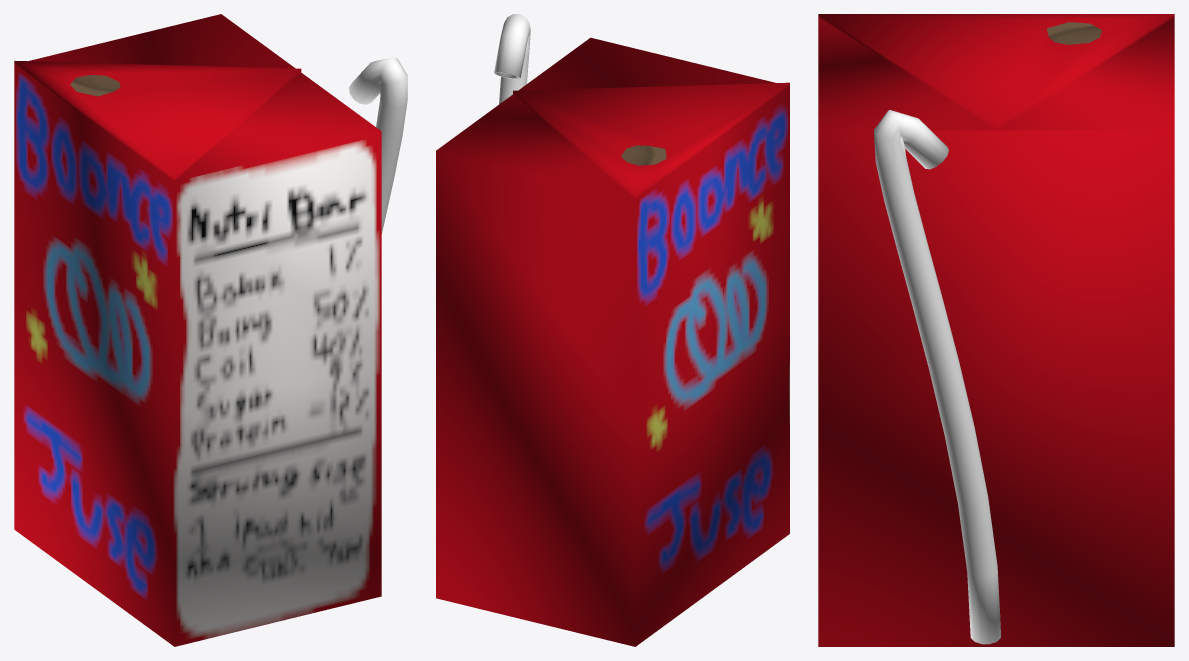
The model's file is item-boonce-juse.glb.
3 views of the same model, side by side, from view 1: azimuth 30°, elevation 25°; view 2: azimuth 150°, elevation 25°; view 3: azimuth 270°, elevation 25° (orthographic). The views are drawn at different scales.
Size of the model in its own units: 0.0768 by 0.14 by 0.0808.
Materials: 3 (2 with a texture image).
